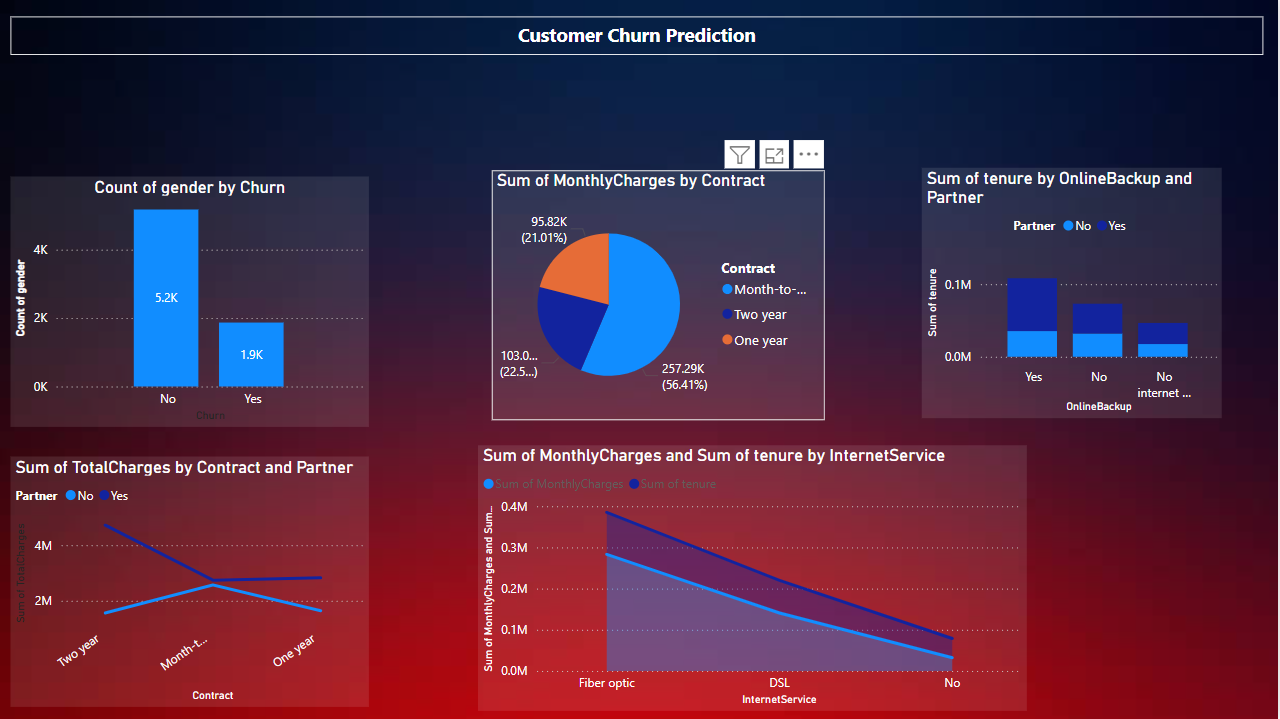

This screenshot's page, from the dashboard's own definition file:
{"tool":"tableau","page":{"name":"Dashboard 1","canvas":[1000,800],"ordinal":0},"visuals":[{"type":"text","box":[298,15,256,30]},{"type":"worksheet","title":"Sheet 2","mark":"Circle","box":[588,118,240,288]},{"type":"worksheet","title":"Sheet 1","mark":"Automatic","rows":["customerID"],"cols":["Churn"],"box":[10,125,333,290]},{"type":"worksheet","title":"Sheet 4","mark":"Pie","cols":["Contract"],"box":[493,434,496,264]},{"type":"worksheet","title":"Sheet 3","mark":"Bar","rows":["InternetService"],"cols":["Churn"],"box":[33,456,446,286]}]}

Visuals, with their boxes on the page's 1000x800 design canvas (x1, y1, x2, y2). These are canvas units, not pixel positions in the 1280x719 screenshot, which may show the page scaled, cropped or inside an application window:
text: select_region(298, 15, 554, 45)
"Sheet 2" worksheet (Circle marks): select_region(588, 118, 828, 406)
"Sheet 1" worksheet: select_region(10, 125, 343, 415)
"Sheet 4" worksheet (Pie marks): select_region(493, 434, 989, 698)
"Sheet 3" worksheet (Bar marks): select_region(33, 456, 479, 742)
